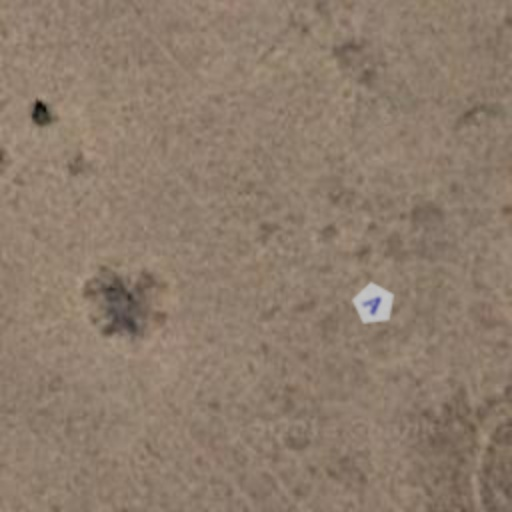pentagon: (342, 272, 406, 336)
